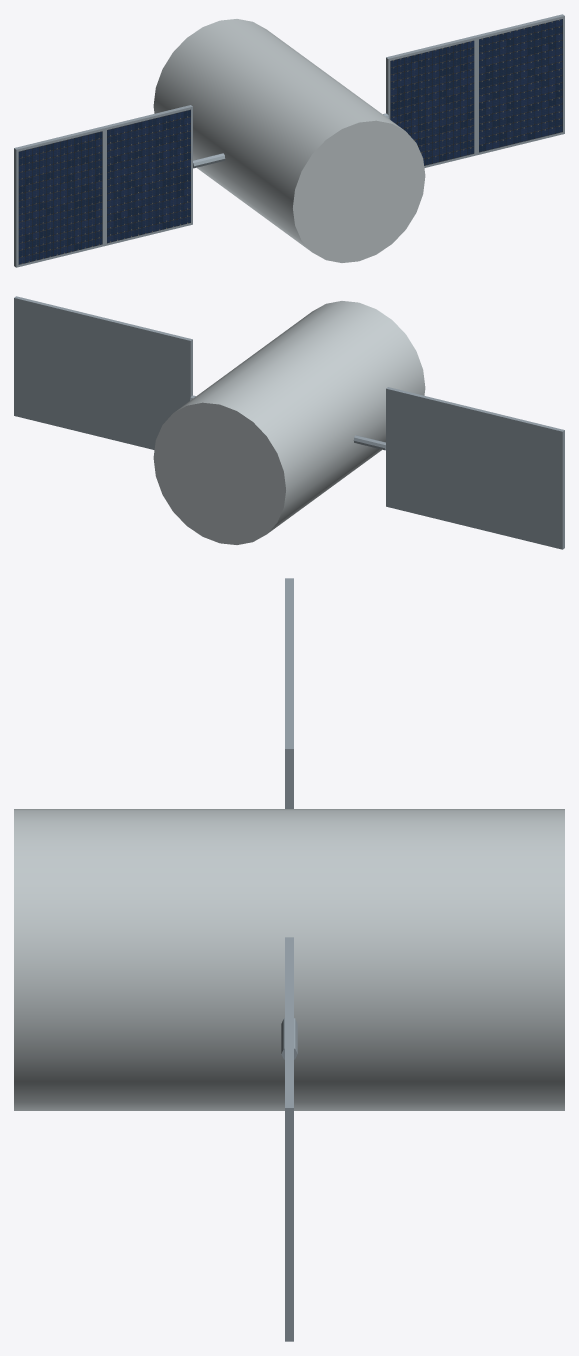
The model's file is ref-htv-x-66174.glb.
3 renders of one model, top to bottom at view 1: azimuth 30°, elevation 25°; view 2: azimuth 150°, elevation 25°; view 3: azimuth 270°, elevation 25°, orthographic. The views are drawn at different scales.
Visible parts, largest first — view 1: Spacecraft body, Photovoltaic laminates (×4), Array frame (×4); view 2: Array frame (×4), Spacecraft body; view 3: Spacecraft body, Array frame (×2).
Boxes of the visible parts, x1,y1,x2,y2 form: Spacecraft body: [153, 19, 425, 262]; Photovoltaic laminates (×4): [18, 19, 562, 264]; Array frame (×4): [14, 14, 564, 267]; Array frame (×4): [14, 296, 564, 549]; Spacecraft body: [153, 301, 425, 544]; Spacecraft body: [14, 809, 564, 1110]; Array frame (×2): [285, 663, 293, 1341].
Size of the model in its own units: 18.2 by 4.4 by 8.
3 materials, 1 textured.
